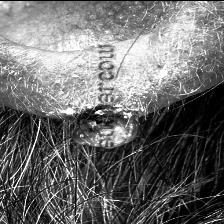Potentially Malignant Skin Tumors: (74, 104, 148, 152)
